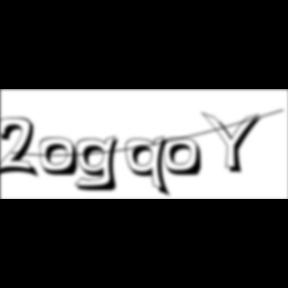2: (1, 117, 44, 181)
Y: (200, 110, 268, 176)
g: (74, 134, 126, 194)
o: (39, 137, 81, 179), (163, 137, 205, 179)
q: (126, 135, 174, 200)
